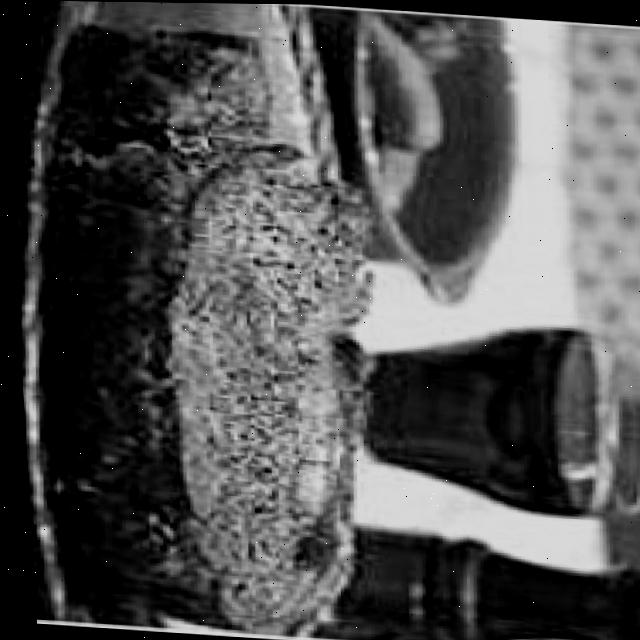牛肉菜式: (1, 20, 390, 632)
